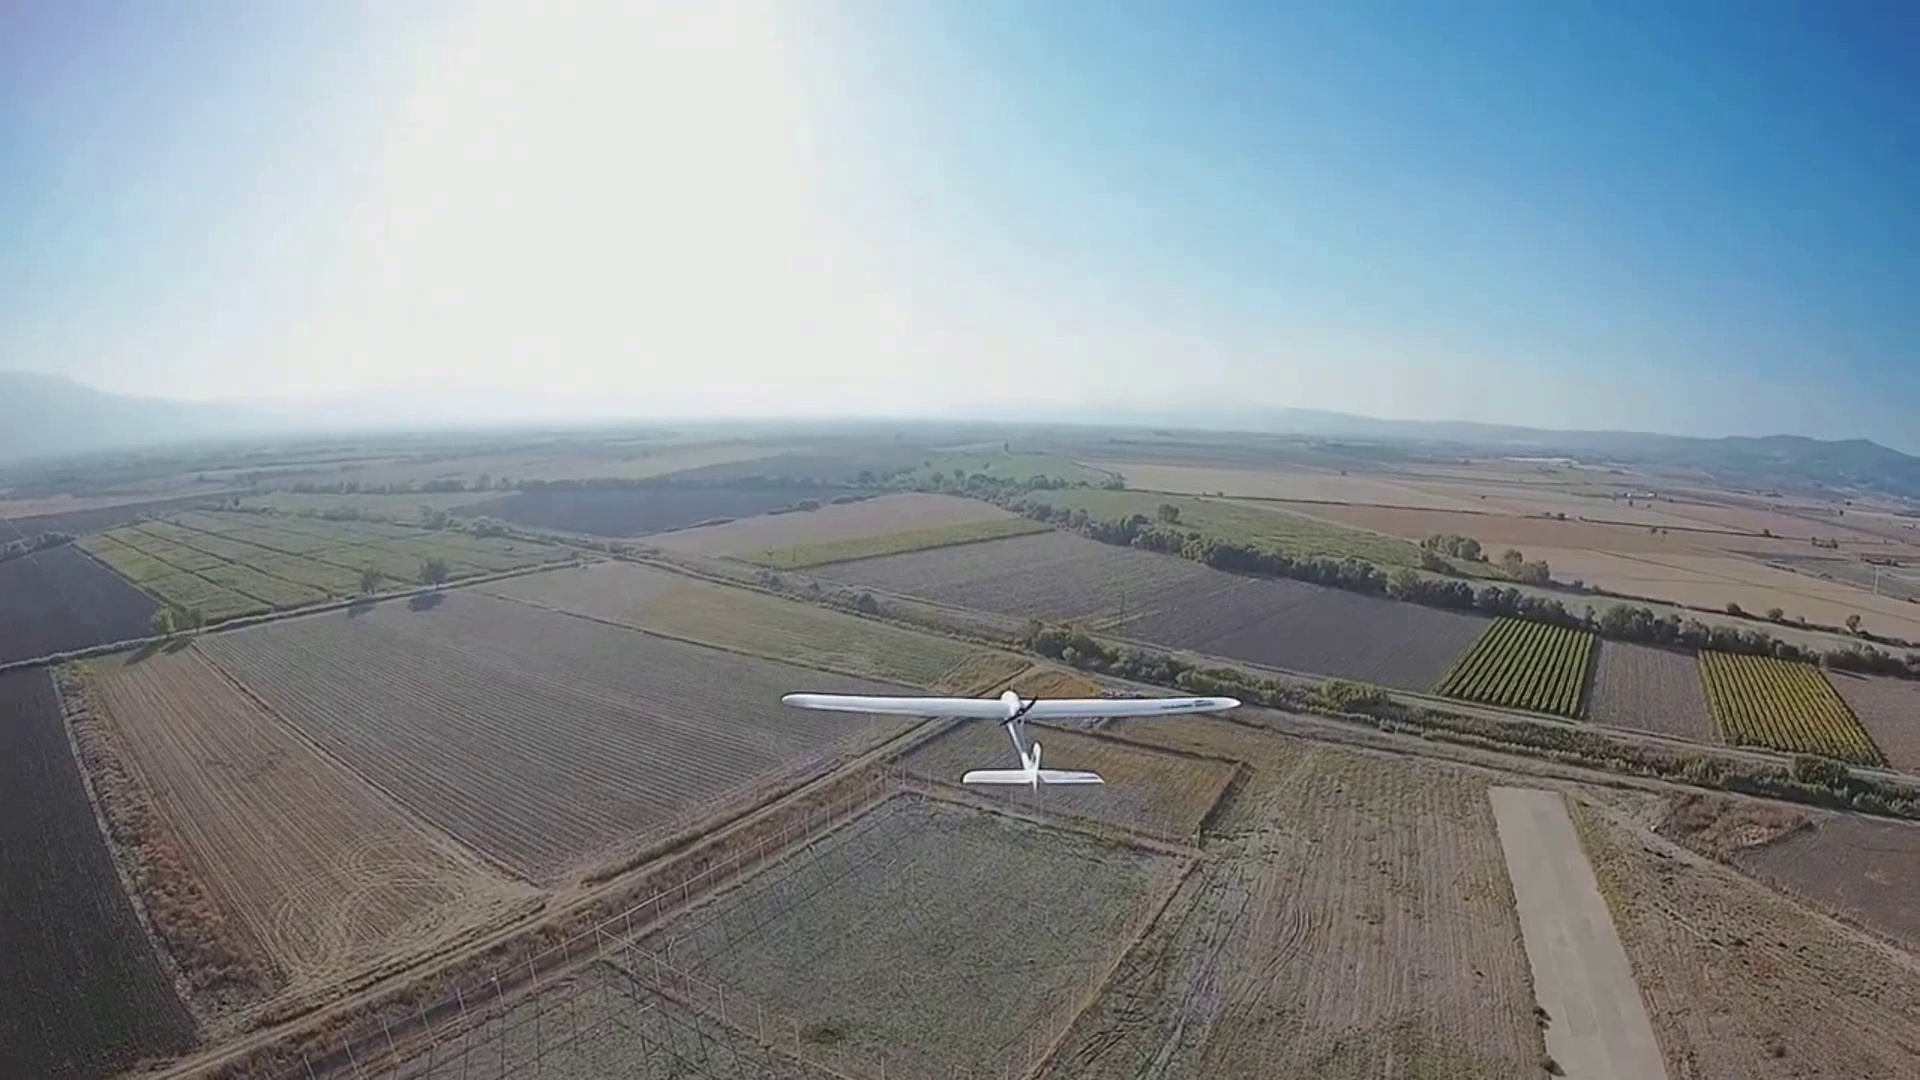airplane: (781, 674, 1242, 791)
